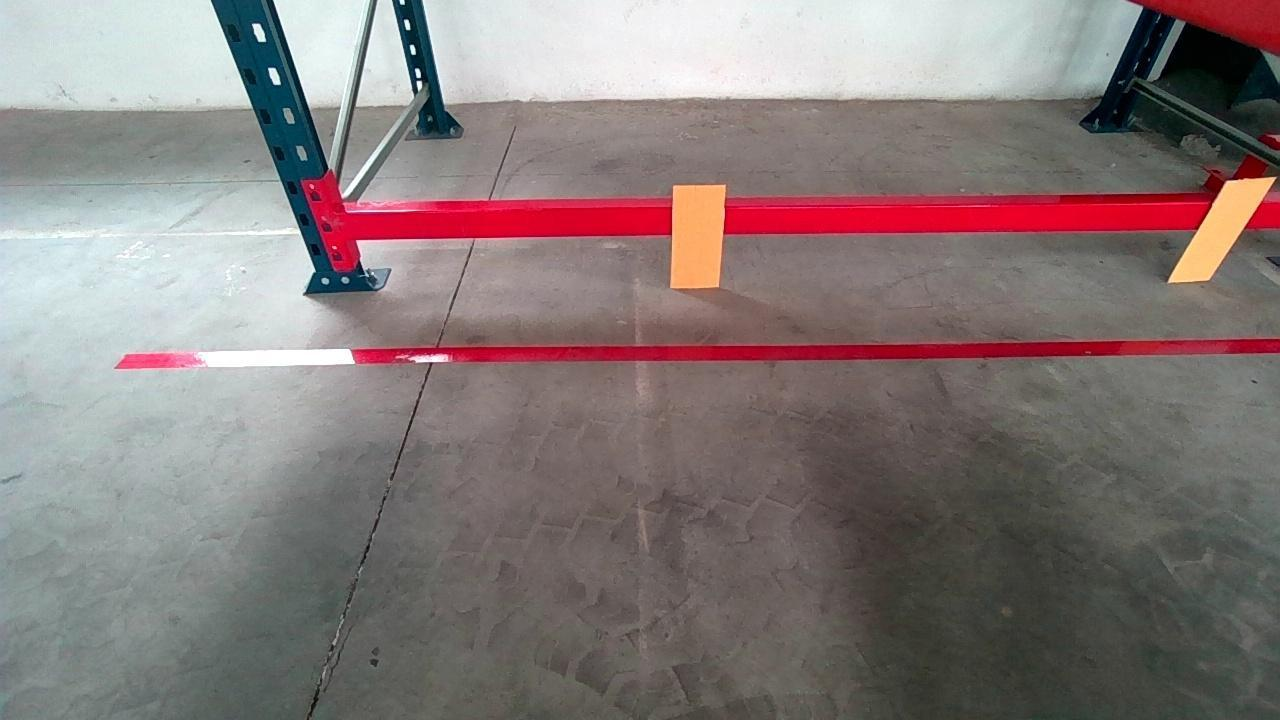h_rack: (345, 199, 1280, 238)
orange_strip: (1170, 177, 1272, 281), (671, 183, 725, 287)
red_line: (109, 336, 1280, 367)
